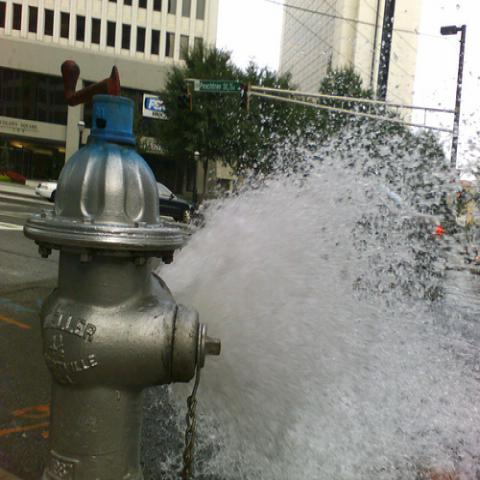car: (359, 179, 447, 292), (157, 183, 200, 223)
